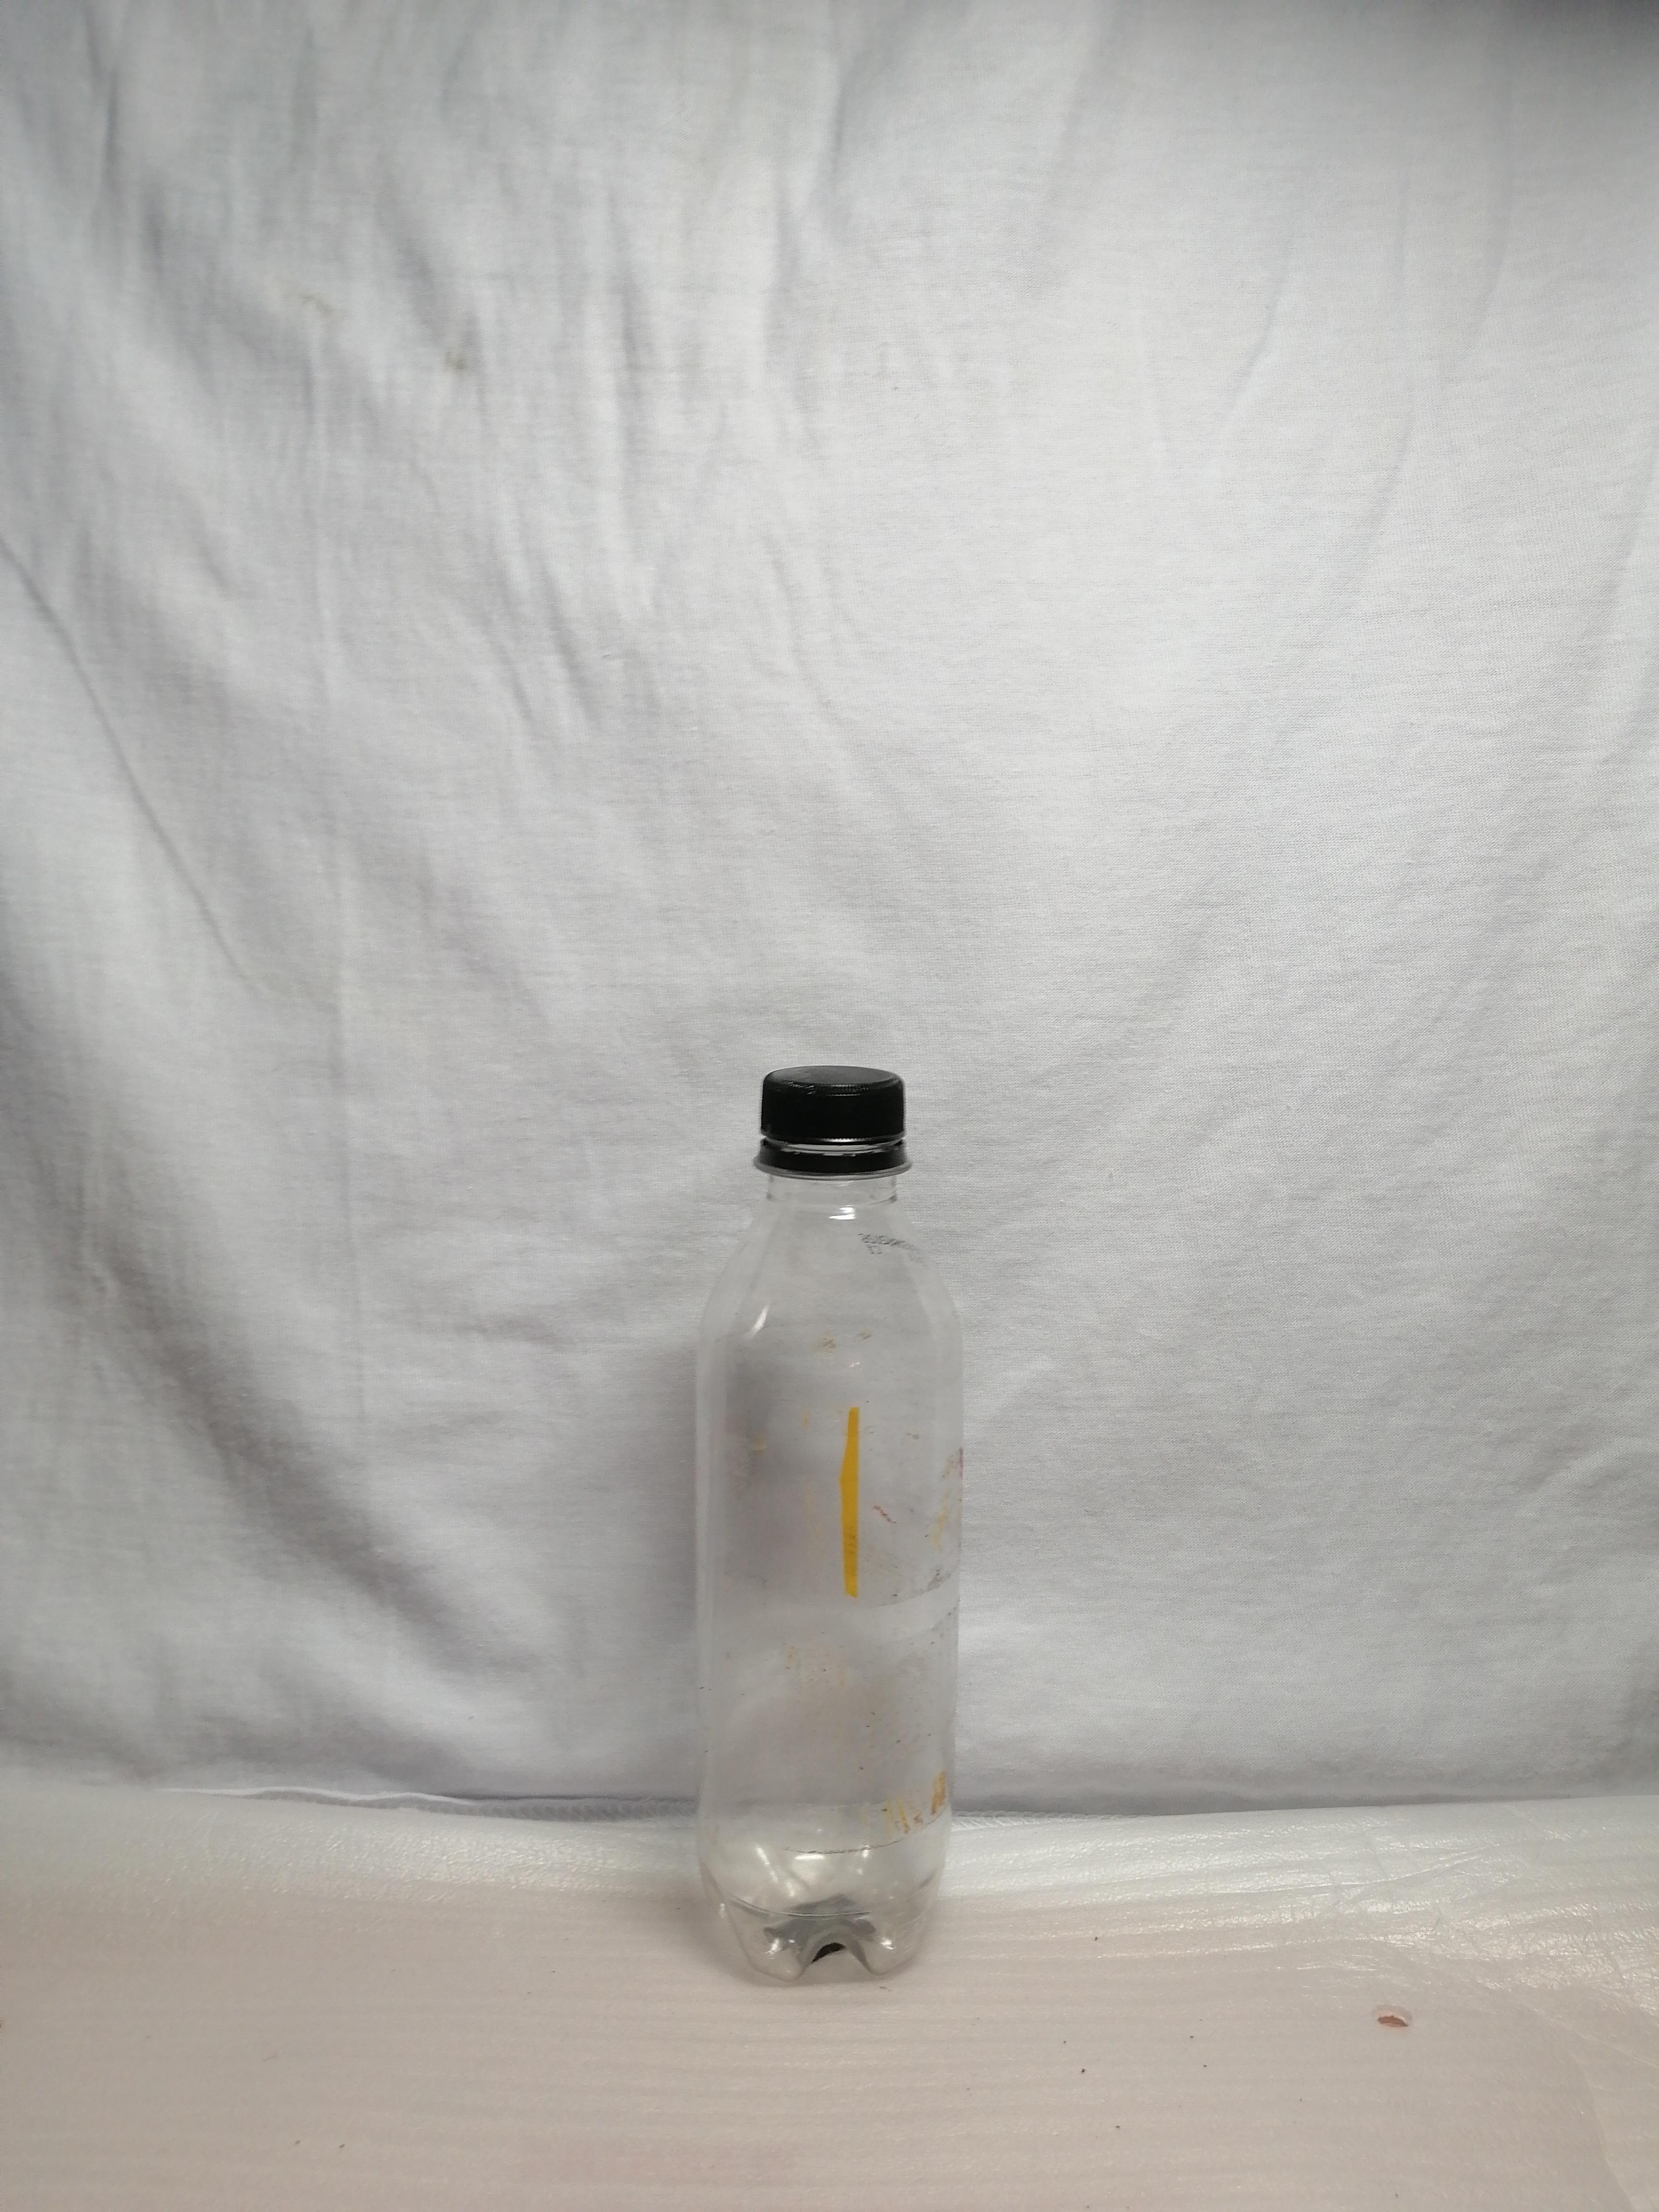plastic-bottle: (629, 1008, 1037, 1983)
